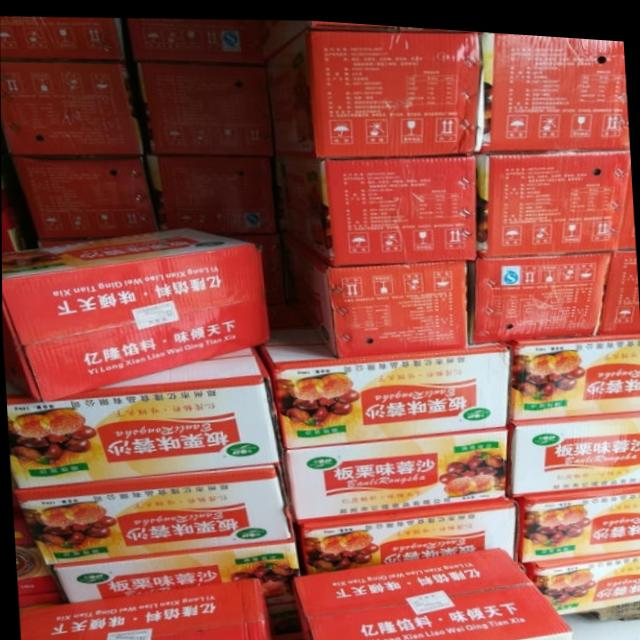box: (1, 223, 268, 403), (7, 342, 283, 490), (256, 320, 509, 446), (13, 459, 296, 566), (261, 26, 483, 155), (291, 539, 571, 640), (50, 537, 301, 632), (270, 149, 478, 262), (280, 233, 469, 356), (281, 419, 511, 520), (475, 26, 630, 149), (473, 141, 636, 253), (297, 491, 520, 570), (18, 573, 269, 640), (468, 244, 612, 340), (0, 58, 144, 153), (129, 58, 273, 152), (7, 152, 161, 236), (506, 324, 640, 417), (508, 404, 640, 491), (510, 474, 640, 556), (147, 150, 275, 232), (519, 540, 640, 609), (262, 17, 506, 51), (13, 490, 70, 608), (121, 16, 262, 61), (0, 17, 125, 60), (595, 241, 640, 328), (1, 177, 28, 257)
